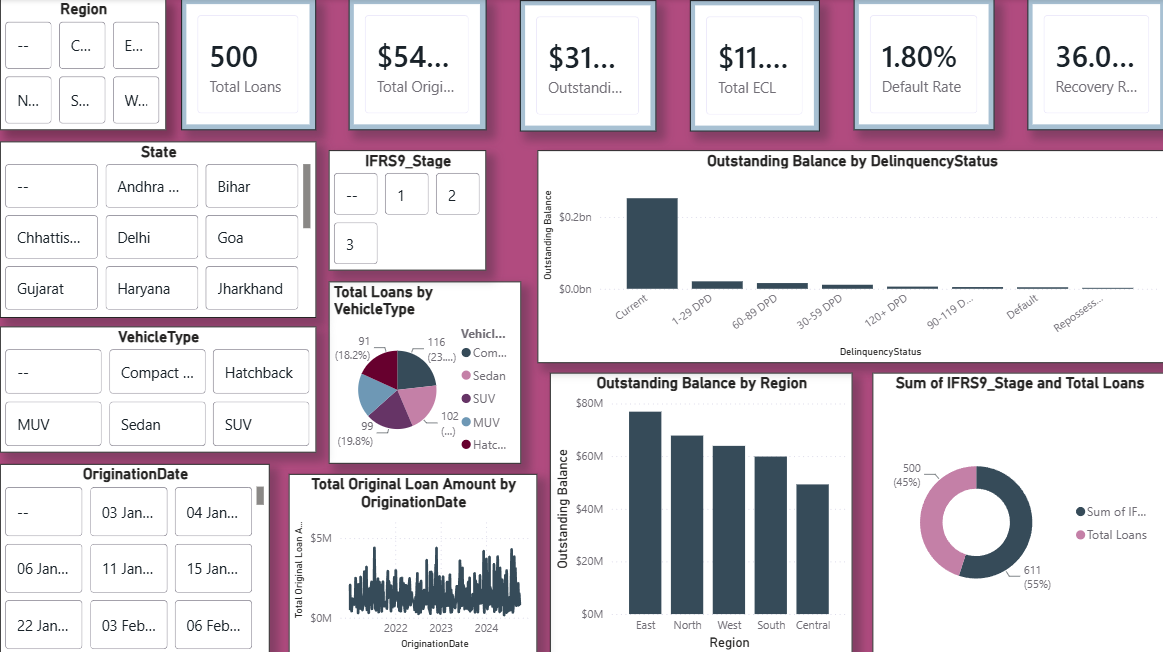

What the dashboard file says about the page in this screenshot:
{"tool":"powerbi","page":{"name":"Executive Dashboard","canvas":[1280,720],"ordinal":0},"visuals":[{"type":"cardVisual","fields":{"Data":["AutoLoan.Total Loans"]},"box":[199,0,147.6,144.3],"z":0},{"type":"cardVisual","fields":{"Data":["AutoLoan.Total Original Loan Amount"]},"box":[383.4,0,150.9,144.3],"z":1000},{"type":"cardVisual","fields":{"Data":["DynamicLoss.Recovery Rate"]},"box":[1127.4,0,152.6,144.3],"z":2000},{"type":"cardVisual","fields":{"Data":["AutoLoan.Total ECL"]},"box":[757.3,1.7,142.6,144.3],"z":3000},{"type":"cardVisual","fields":{"Data":["AutoLoan.Outstanding Balance"]},"box":[571.2,1.7,149.3,144.3],"z":4000},{"type":"cardVisual","fields":{"Data":["AutoLoan.Default Rate"]},"box":[936.7,0,154.2,144.3],"z":5000},{"type":"clusteredColumnChart","fields":{"Category":["AutoLoan.Region"],"Y":["AutoLoan.Outstanding Balance"]},"box":[603.8,410.3,332.1,310.1],"z":6000},{"type":"pieChart","fields":{"Category":["AutoLoan.VehicleType"],"Y":["AutoLoan.Total Loans"]},"box":[360.9,310.1,211.3,200.3],"z":7000},{"type":"lineChart","fields":{"Category":["AutoLoan.OriginationDate"],"Y":["AutoLoan.Total Original Loan Amount"]},"box":[317,521.4,273.1,199],"z":8000},{"type":"columnChart","fields":{"Category":["AutoLoan.DelinquencyStatus"],"Y":["AutoLoan.Outstanding Balance"]},"box":[590.1,166,690.2,233.3],"z":9000},{"type":"donutChart","fields":{"Y":["Sum(AutoLoan.IFRS9_Stage)","AutoLoan.Total Loans"]},"box":[957.8,410.3,322.5,310.1],"z":10000},{"type":"advancedSlicerVisual","fields":{"Values":["AutoLoan.Region"]},"box":[0,0,182.5,144.1],"z":11000},{"type":"advancedSlicerVisual","fields":{"Values":["AutoLoan.State"]},"box":[0,156.4,347.2,193.5],"z":12000},{"type":"advancedSlicerVisual","fields":{"Values":["AutoLoan.VehicleType"]},"box":[0,359.5,347.2,138.6],"z":13000},{"type":"advancedSlicerVisual","fields":{"Values":["AutoLoan.OriginationDate"]},"box":[0,510.5,296.4,209.9],"z":14000},{"type":"advancedSlicerVisual","fields":{"Values":["AutoLoan.IFRS9_Stage"]},"box":[360.9,166,172.9,131.7],"z":15000}]}

Visuals, with their boxes in screenshot pixels (x1, y1, x2, y2), scaled from the page's 1280x720 canvas onto the 1163x652 screenshot:
cardVisual - AutoLoan.Total Loans: (x1=181, y1=0, x2=315, y2=131)
cardVisual - AutoLoan.Total Original Loan Amount: (x1=348, y1=0, x2=485, y2=131)
cardVisual - DynamicLoss.Recovery Rate: (x1=1024, y1=0, x2=1162, y2=131)
cardVisual - AutoLoan.Total ECL: (x1=688, y1=2, x2=818, y2=132)
cardVisual - AutoLoan.Outstanding Balance: (x1=519, y1=2, x2=655, y2=132)
cardVisual - AutoLoan.Default Rate: (x1=851, y1=0, x2=991, y2=131)
clusteredColumnChart - AutoLoan.Region x AutoLoan.Outstanding Balance: (x1=549, y1=372, x2=850, y2=651)
pieChart - AutoLoan.VehicleType x AutoLoan.Total Loans: (x1=328, y1=281, x2=520, y2=462)
lineChart - AutoLoan.OriginationDate x AutoLoan.Total Original Loan Amount: (x1=288, y1=472, x2=536, y2=651)
columnChart - AutoLoan.DelinquencyStatus x AutoLoan.Outstanding Balance: (x1=536, y1=150, x2=1162, y2=362)
donutChart - Sum(AutoLoan.IFRS9_Stage) x AutoLoan.Total Loans: (x1=870, y1=372, x2=1162, y2=651)
advancedSlicerVisual - AutoLoan.Region: (x1=0, y1=0, x2=166, y2=130)
advancedSlicerVisual - AutoLoan.State: (x1=0, y1=142, x2=315, y2=317)
advancedSlicerVisual - AutoLoan.VehicleType: (x1=0, y1=326, x2=315, y2=451)
advancedSlicerVisual - AutoLoan.OriginationDate: (x1=0, y1=462, x2=269, y2=651)
advancedSlicerVisual - AutoLoan.IFRS9_Stage: (x1=328, y1=150, x2=485, y2=270)
